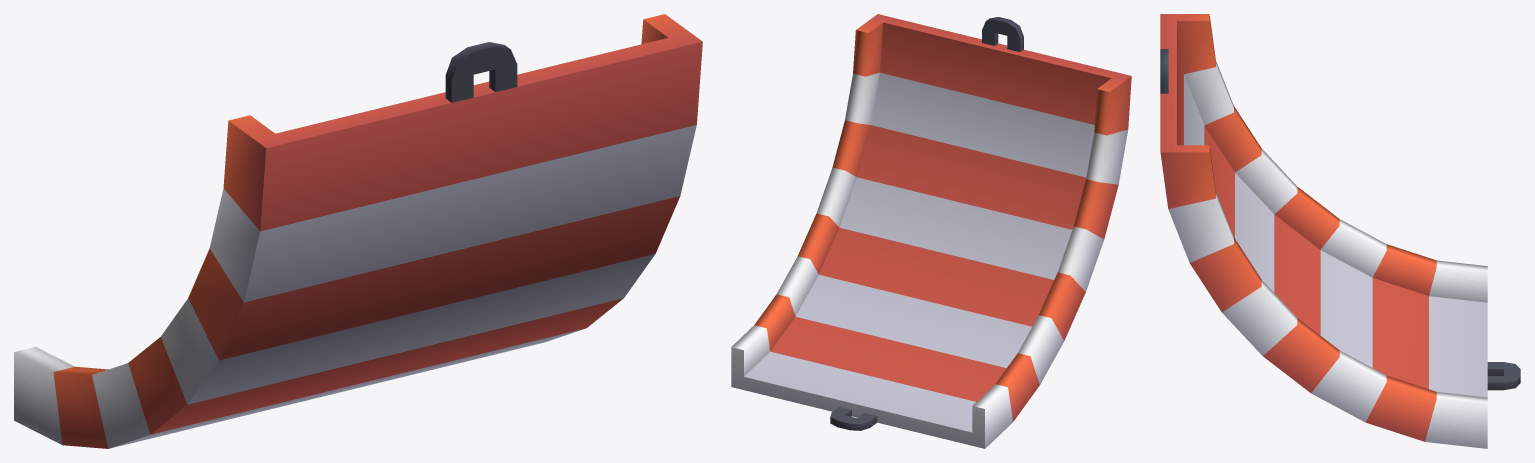
The model's file is track-striped-wide-straight-bend.glb.
3 views of the same model, side by side, from view 1: azimuth 30°, elevation 25°; view 2: azimuth 150°, elevation 25°; view 3: azimuth 270°, elevation 25° (orthographic). The views are drawn at different scales.
Parts seen in each view (by area): view 1: track-striped-wide-straight-bend; view 2: track-striped-wide-straight-bend; view 3: track-striped-wide-straight-bend.
Boxes of the visible parts, <box> form: track-striped-wide-straight-bend: <box>14,14,702,448</box>; track-striped-wide-straight-bend: <box>731,14,1131,448</box>; track-striped-wide-straight-bend: <box>1160,14,1520,448</box>.
Bounding box in the file's own units: 6 × 6.6 × 6.6.
1 material, 1 textured.
